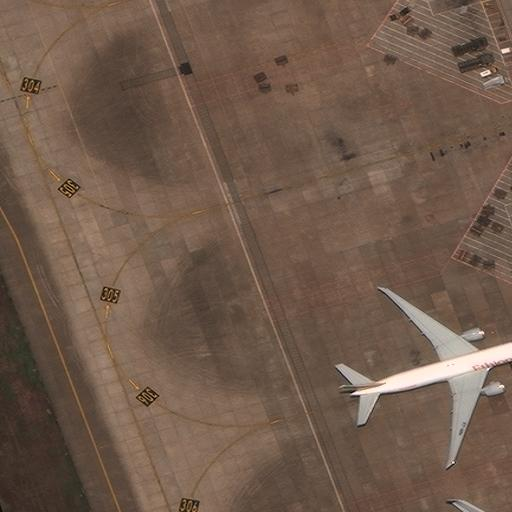Large Civil Transport: (338, 286, 512, 463)
